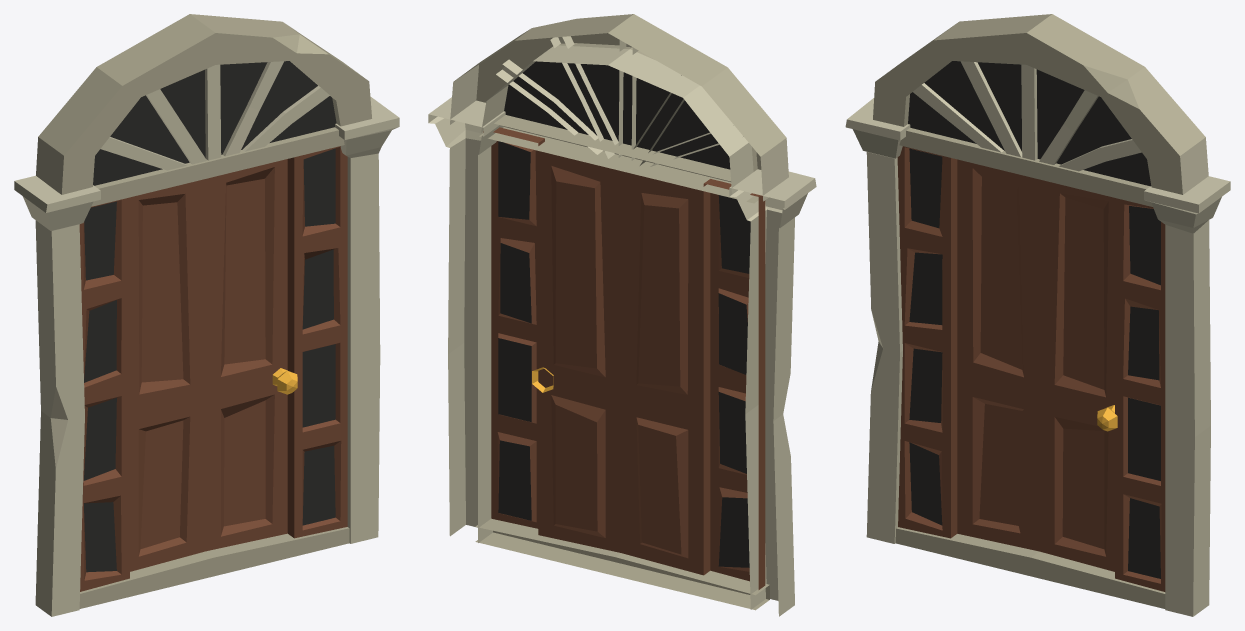
The model's file is Door_6.fbx.
The picture shows the model from 3 angles, left to right: view 1: azimuth 30°, elevation 25°; view 2: azimuth 150°, elevation 25°; view 3: azimuth 330°, elevation 25°; orthographic projection.
Visible parts, largest first — view 1: Door_6; view 2: Door_6; view 3: Door_6.
Boxes of the visible parts, x1,y1,x2,y2 form: Door_6: [14, 14, 399, 616]; Door_6: [428, 14, 816, 616]; Door_6: [845, 14, 1230, 616].
Size of the model in its own units: 206 by 304 by 31.97.
